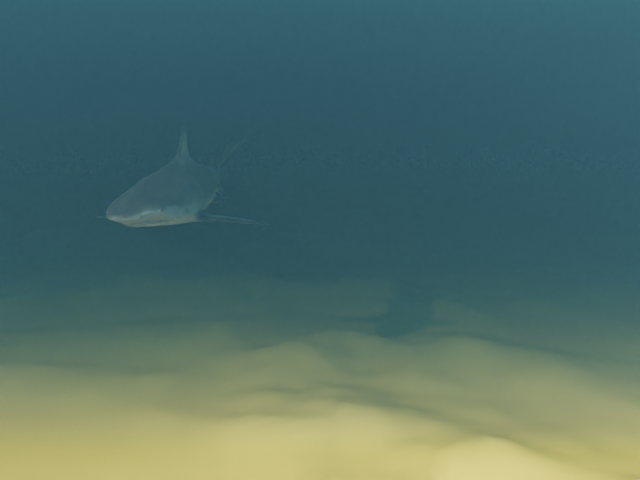Carribean Shark.001: (95, 124, 272, 227)
